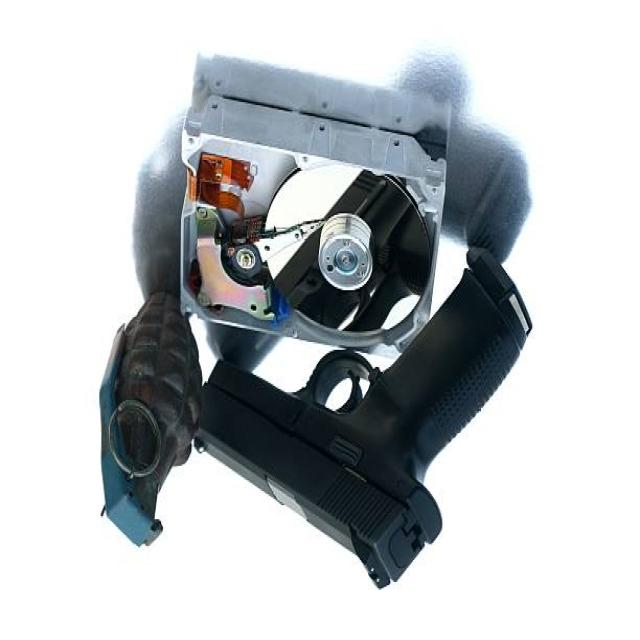grenade: (97, 284, 214, 555)
